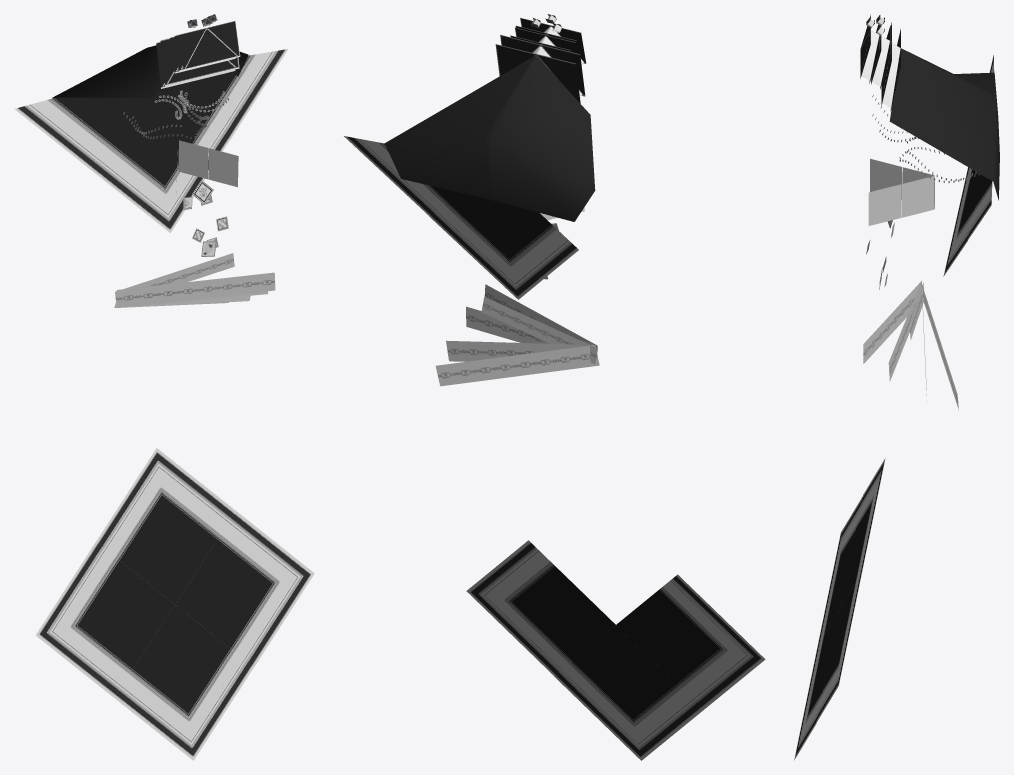
File: 00_new_08_prova2.dae
3 views of the same model, side by side, from view 1: azimuth 30°, elevation 25°; view 2: azimuth 150°, elevation 25°; view 3: azimuth 270°, elevation 25° (orthographic). The views are drawn at different scales.
Visible parts, largest first — view 1: bordo_01.1 (×2), bordo_01 (×2), bordo_01.3 (×2), bordo_01.2, nero, topgrande2, topgrande2.4, linee.1, linee.2; view 2: nero, bordo_01.1 (×2), bordo_01.3 (×2), bordo_01, topgrande2.5, topgrande2.4; view 3: nero, bordo_01.1 (×2), bordo_01.3 (×2), bordo_01.2, bordo_01, linee.2, linee.1, linee.3, no_alpha.2, no_alpha.1, no_alpha.
Boxes of the visible parts, box(x1,y1,x2,y2) form: bordo_01.1 (×2): box(90, 86, 253, 760); bordo_01 (×2): box(14, 97, 174, 697); bordo_01.3 (×2): box(166, 49, 314, 666); bordo_01.2: box(96, 448, 235, 604); nero: box(52, 45, 248, 97); topgrande2: box(179, 20, 240, 70); topgrande2.4: box(160, 38, 239, 86); linee.1: box(178, 140, 208, 179); linee.2: box(208, 148, 238, 187); nero: box(384, 55, 595, 221); bordo_01.1 (×2): box(429, 192, 703, 760); bordo_01.3 (×2): box(344, 136, 615, 675); bordo_01: box(615, 574, 765, 709); topgrande2.5: box(495, 44, 580, 103); topgrande2.4: box(500, 34, 585, 96); nero: box(889, 48, 999, 200); bordo_01.1 (×2): box(794, 167, 982, 760); bordo_01.3 (×2): box(816, 175, 992, 722); bordo_01.2: box(839, 458, 885, 608); bordo_01: box(817, 497, 862, 645); linee.2: box(868, 184, 901, 225); linee.1: box(901, 176, 934, 217); linee.3: box(870, 158, 902, 199); no_alpha.2: box(882, 42, 900, 108); no_alpha.1: box(872, 36, 889, 86); no_alpha: box(861, 30, 879, 80).
Bounding box in the file's own units: 1738 × 3637 × 883.
15 materials, 12 textured.
